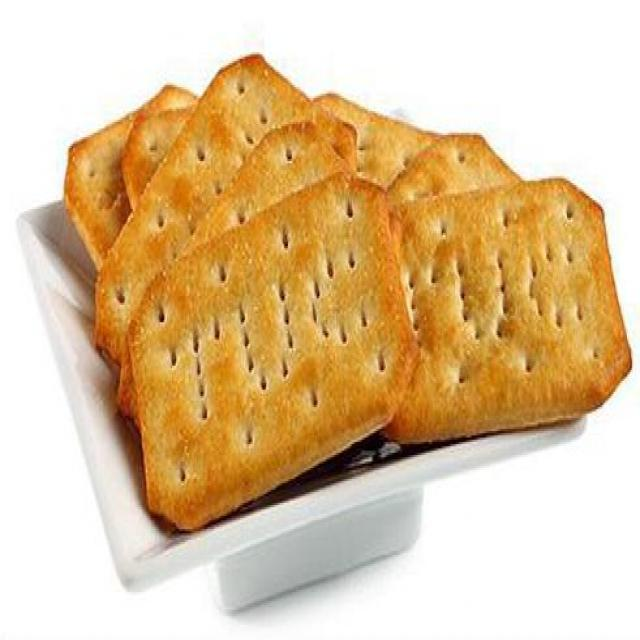Cracker: (124, 183, 414, 514), (353, 177, 636, 447)
